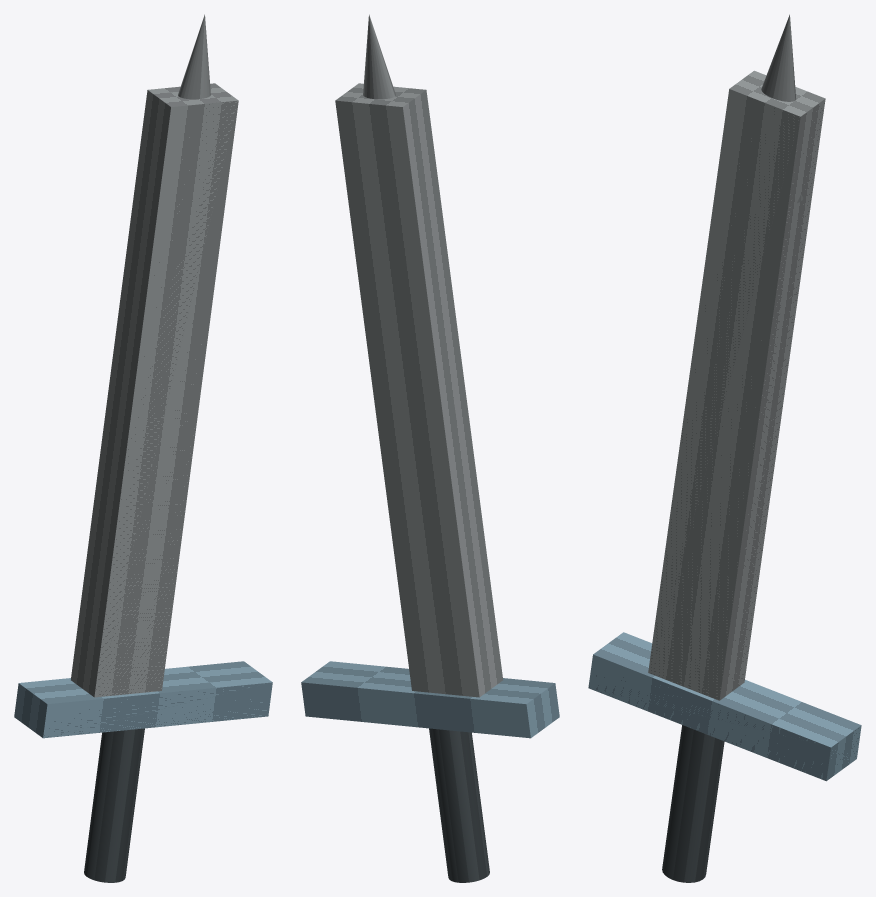
File: salzstahl.glb
3 renders of one model, left to right at view 1: azimuth 30°, elevation 25°; view 2: azimuth 150°, elevation 25°; view 3: azimuth 330°, elevation 25°, orthographic. The views are drawn at different scales.
Visible parts, largest first — view 1: longsword_blade, longsword_guard, longsword_grip, longsword_point; view 2: longsword_blade, longsword_guard, longsword_grip, longsword_point; view 3: longsword_blade, longsword_guard, longsword_grip, longsword_point.
Part boxes in pixels (x1,y1,x2,y2): longsword_blade: [71, 83, 238, 697]; longsword_guard: [14, 661, 272, 738]; longsword_grip: [84, 728, 144, 882]; longsword_point: [178, 14, 210, 99]; longsword_blade: [335, 83, 502, 697]; longsword_guard: [301, 661, 559, 738]; longsword_grip: [429, 728, 489, 882]; longsword_point: [363, 14, 395, 99]; longsword_blade: [648, 70, 825, 700]; longsword_guard: [588, 632, 861, 781]; longsword_grip: [662, 725, 724, 882]; longsword_point: [761, 14, 803, 203].
Bounding box in the file's own units: 0.5049 × 1.76 × 0.11.
3 materials, 3 textured.
